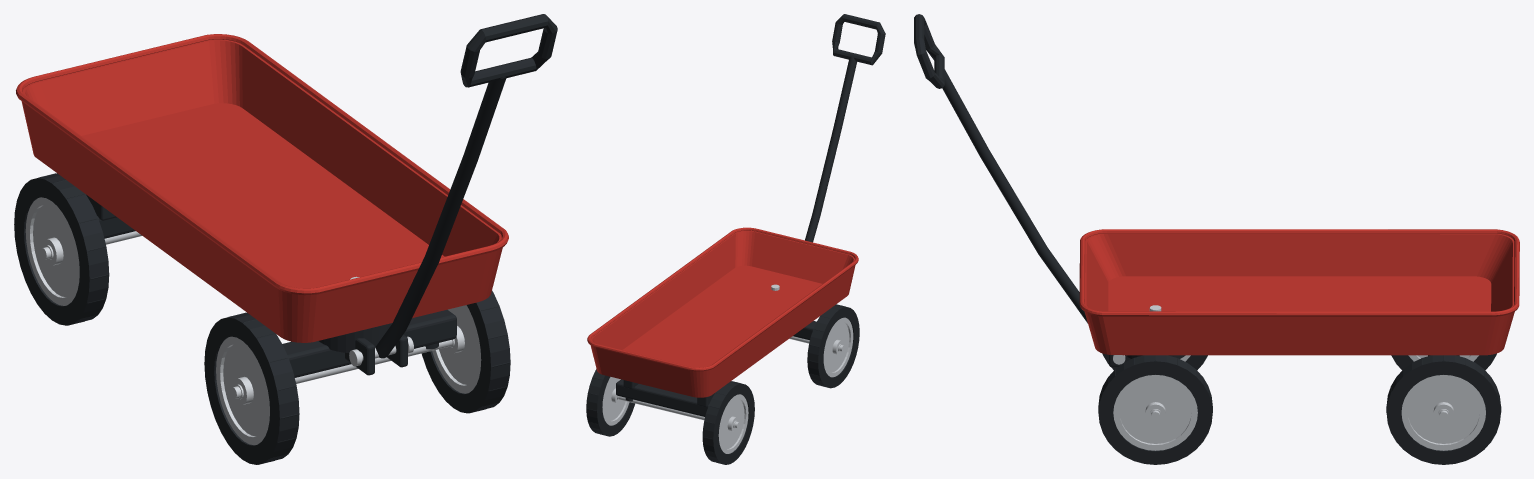
The model's file is A-NEW-20261026-TOY-WAGON-001_LOD1_R1.glb.
3 renders of one model, left to right at view 1: azimuth 30°, elevation 25°; view 2: azimuth 150°, elevation 25°; view 3: azimuth 270°, elevation 25°, orthographic. The views are drawn at different scales.
Visible parts, largest first — view 1: open wagon tub, continuous rolled rim, rear -1 tire, front -1 tire, long curved pulling handle, front 1 tire, rectangular closed loop grip, front axle beam, front -1 dished center, rear -1 dished center, front 1 dished center, front -1 rim (+5 smaller); view 2: open wagon tub, continuous rolled rim, front -1 tire, rear -1 tire, long curved pulling handle, rear axle beam, rear 1 tire, rectangular closed loop grip, rear -1 dished center, front -1 dished center, rear 1 dished center, front -1 rim (+2 smaller); view 3: open wagon tub, continuous rolled rim, rear 1 tire, front 1 tire, rear 1 dished center, front 1 dished center, long curved pulling handle, front 1 rim, rear 1 rim, rectangular closed loop grip.
Part boxes in pixels (x1,y1,x2,y2): open wagon tub: (21, 39, 502, 342); continuous rolled rim: (16, 34, 508, 295); rear -1 tire: (14, 173, 109, 325); front -1 tire: (204, 312, 299, 464); long curved pulling handle: (375, 77, 506, 358); front 1 tire: (421, 290, 510, 413); rectangular closed loop grip: (460, 14, 557, 87); front axle beam: (282, 309, 456, 377); front -1 dished center: (223, 344, 267, 436); rear -1 dished center: (33, 205, 77, 296); front 1 dished center: (439, 305, 478, 384); front -1 rim: (216, 336, 269, 445); open wagon tub: (590, 230, 855, 397); continuous rolled rim: (587, 227, 858, 371); front -1 tire: (807, 304, 859, 388); rear -1 tire: (702, 381, 754, 464); long curved pulling handle: (805, 56, 856, 242); rear axle beam: (616, 379, 708, 416); rear 1 tire: (586, 369, 634, 436); rectangular closed loop grip: (832, 14, 885, 65); rear -1 dished center: (720, 398, 744, 449); front -1 dished center: (825, 322, 849, 372); rear 1 dished center: (603, 377, 625, 420); front -1 rim: (823, 317, 853, 377); open wagon tub: (1084, 233, 1514, 355); continuous rolled rim: (1079, 229, 1519, 316); rear 1 tire: (1386, 355, 1500, 464); front 1 tire: (1098, 355, 1212, 464); rear 1 dished center: (1408, 380, 1479, 443); front 1 dished center: (1119, 380, 1191, 443); long curved pulling handle: (942, 68, 1087, 323); front 1 rim: (1113, 375, 1197, 450); rear 1 rim: (1401, 375, 1485, 450); rectangular closed loop grip: (914, 14, 944, 88).
Bounding box in the file's own units: 0.48 × 0.9722 × 1.35.
